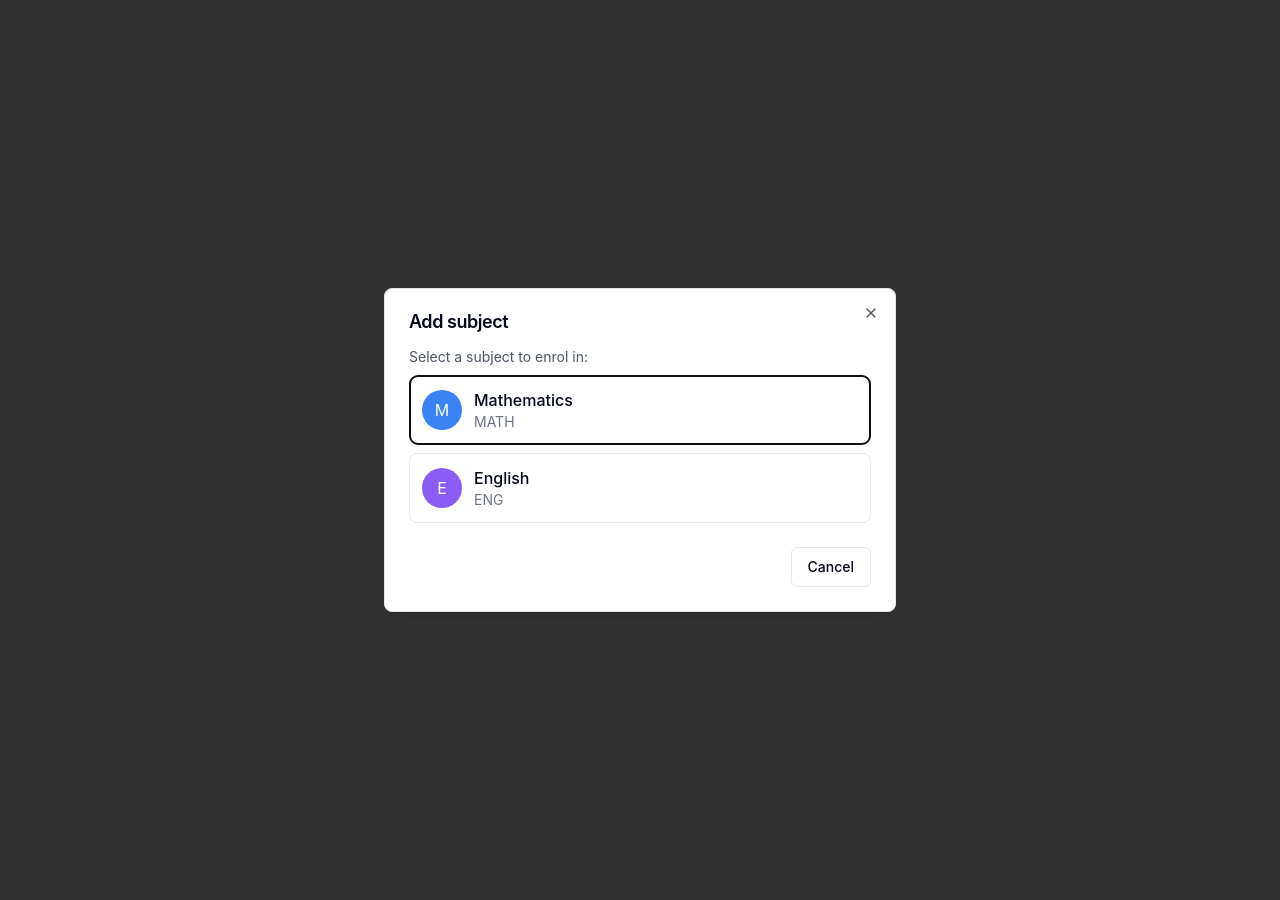
Test: SubjectEnrolModal › allows going back to subject selection
This screenshot has width=1280, height=900.
// Select subject
Click the text "Mathematics". click: click(523, 400)
box: [474,388,573,412]
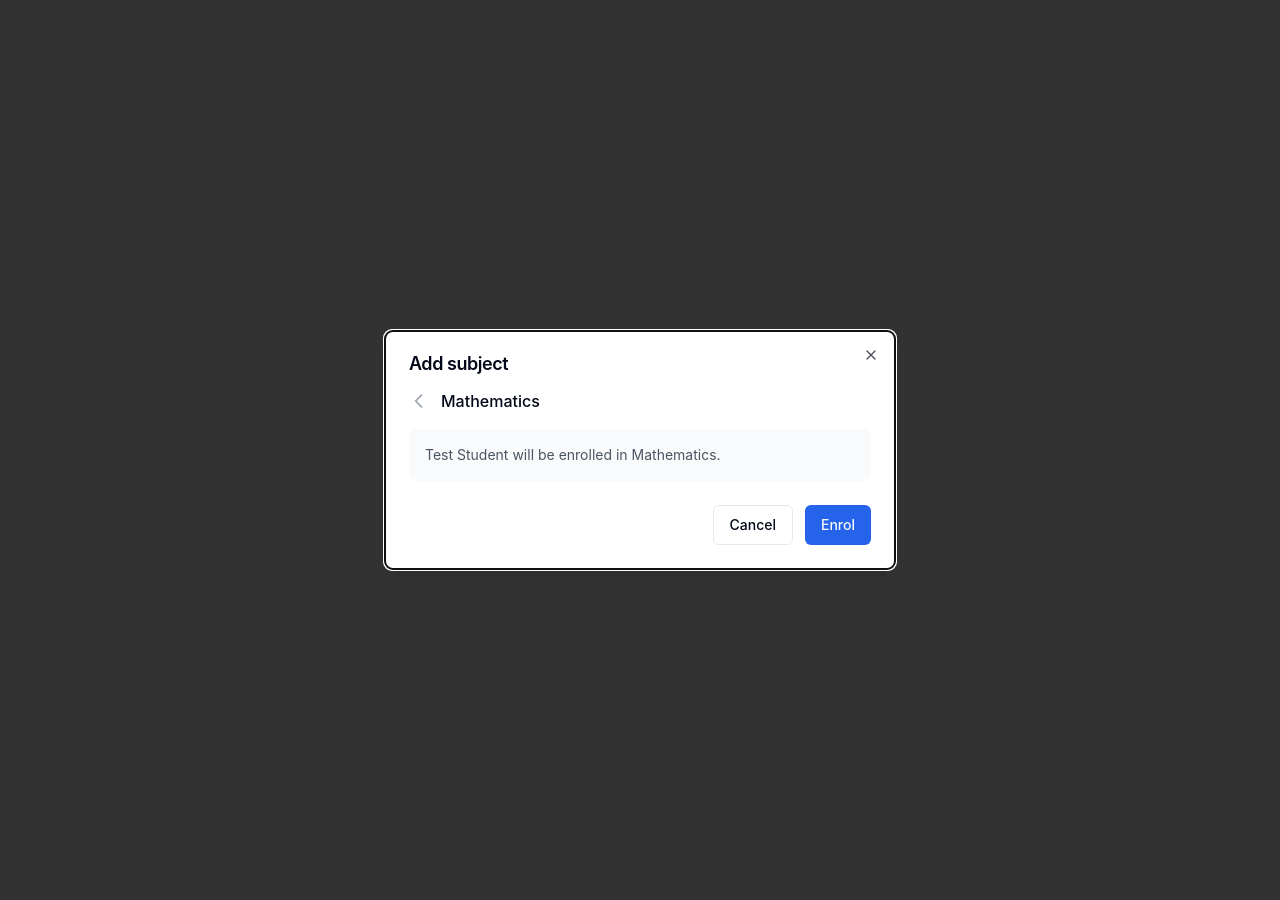
Expected: the text "Test Student will be enrolled in Mathematics." is shown, [425,446,721,463]
// Click back button
Click the 2nd button. click: click(419, 401)
box: [409,391,429,411]
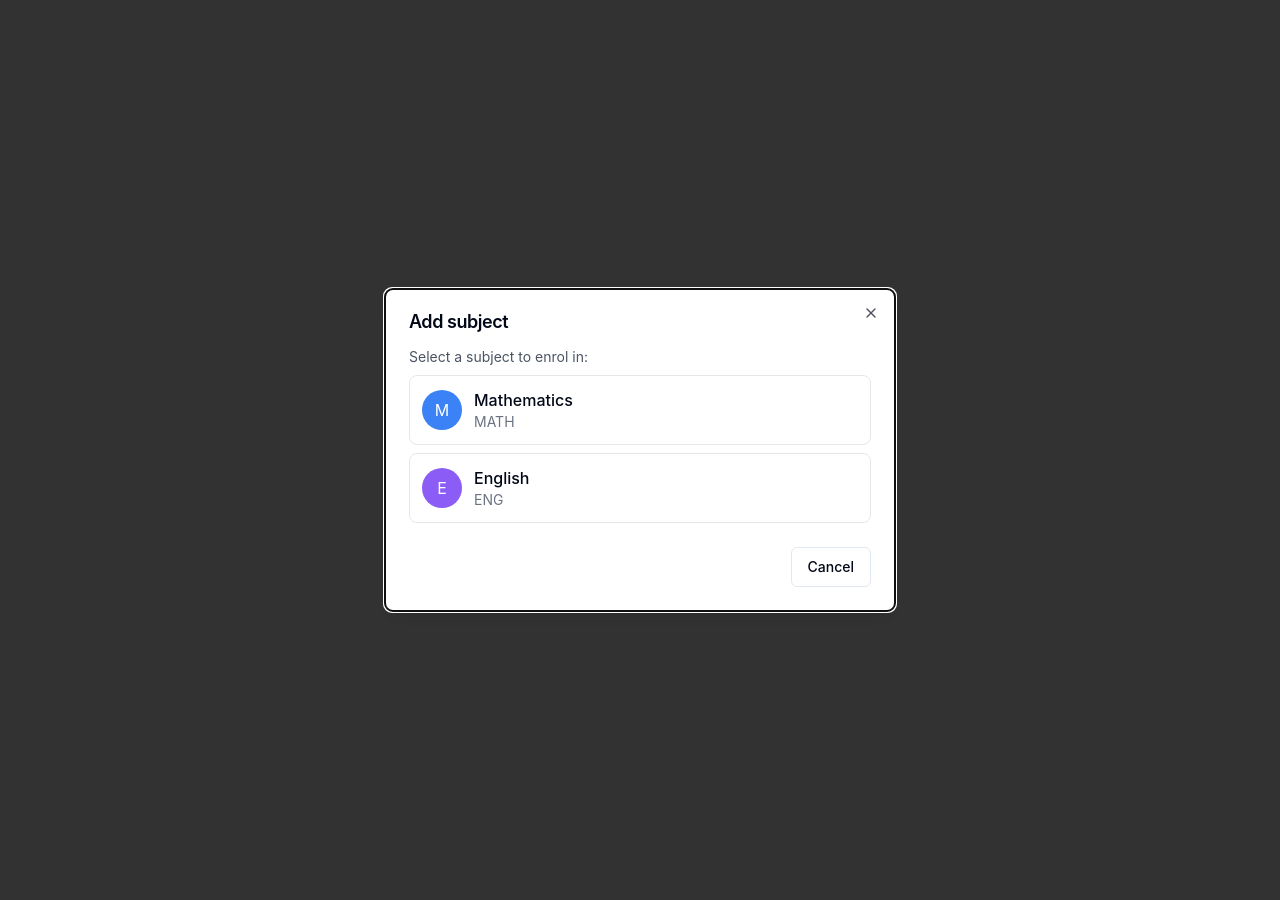
Expected: the text "Select a subject to enrol in:" is shown, [409,348,588,365]
